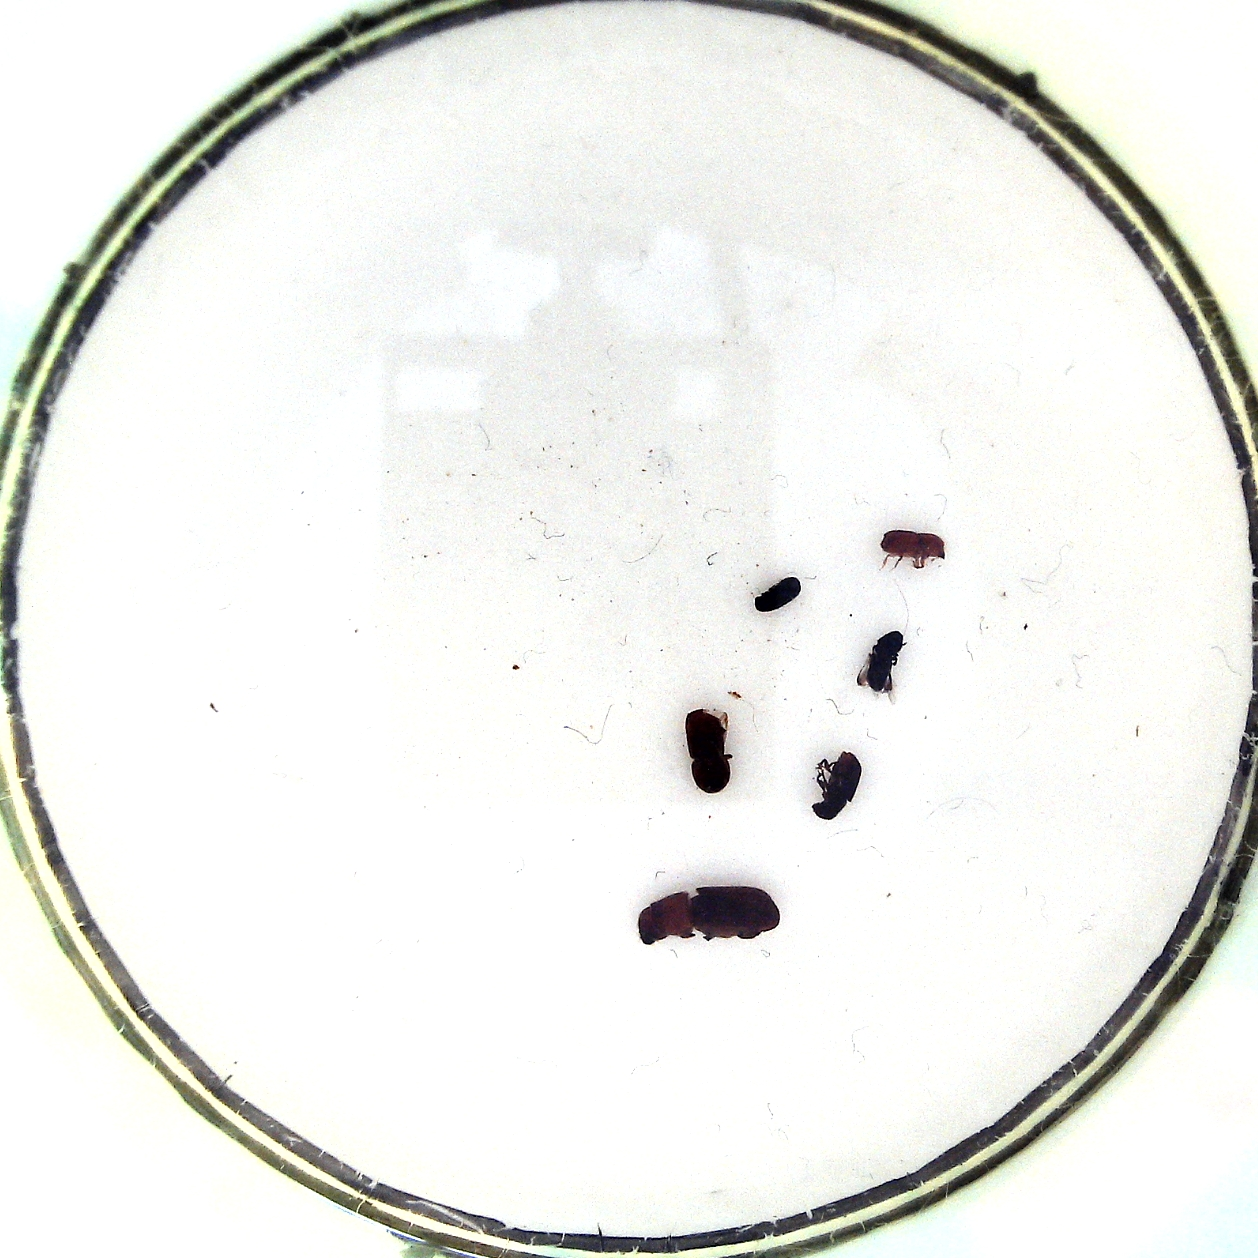Leconte: (636, 884, 780, 952)
Linnaeus: (683, 710, 736, 799)
acuminatus: (877, 525, 950, 569)
armandi: (809, 745, 863, 818)
coleoptera: (852, 627, 905, 699), (752, 574, 804, 622)
